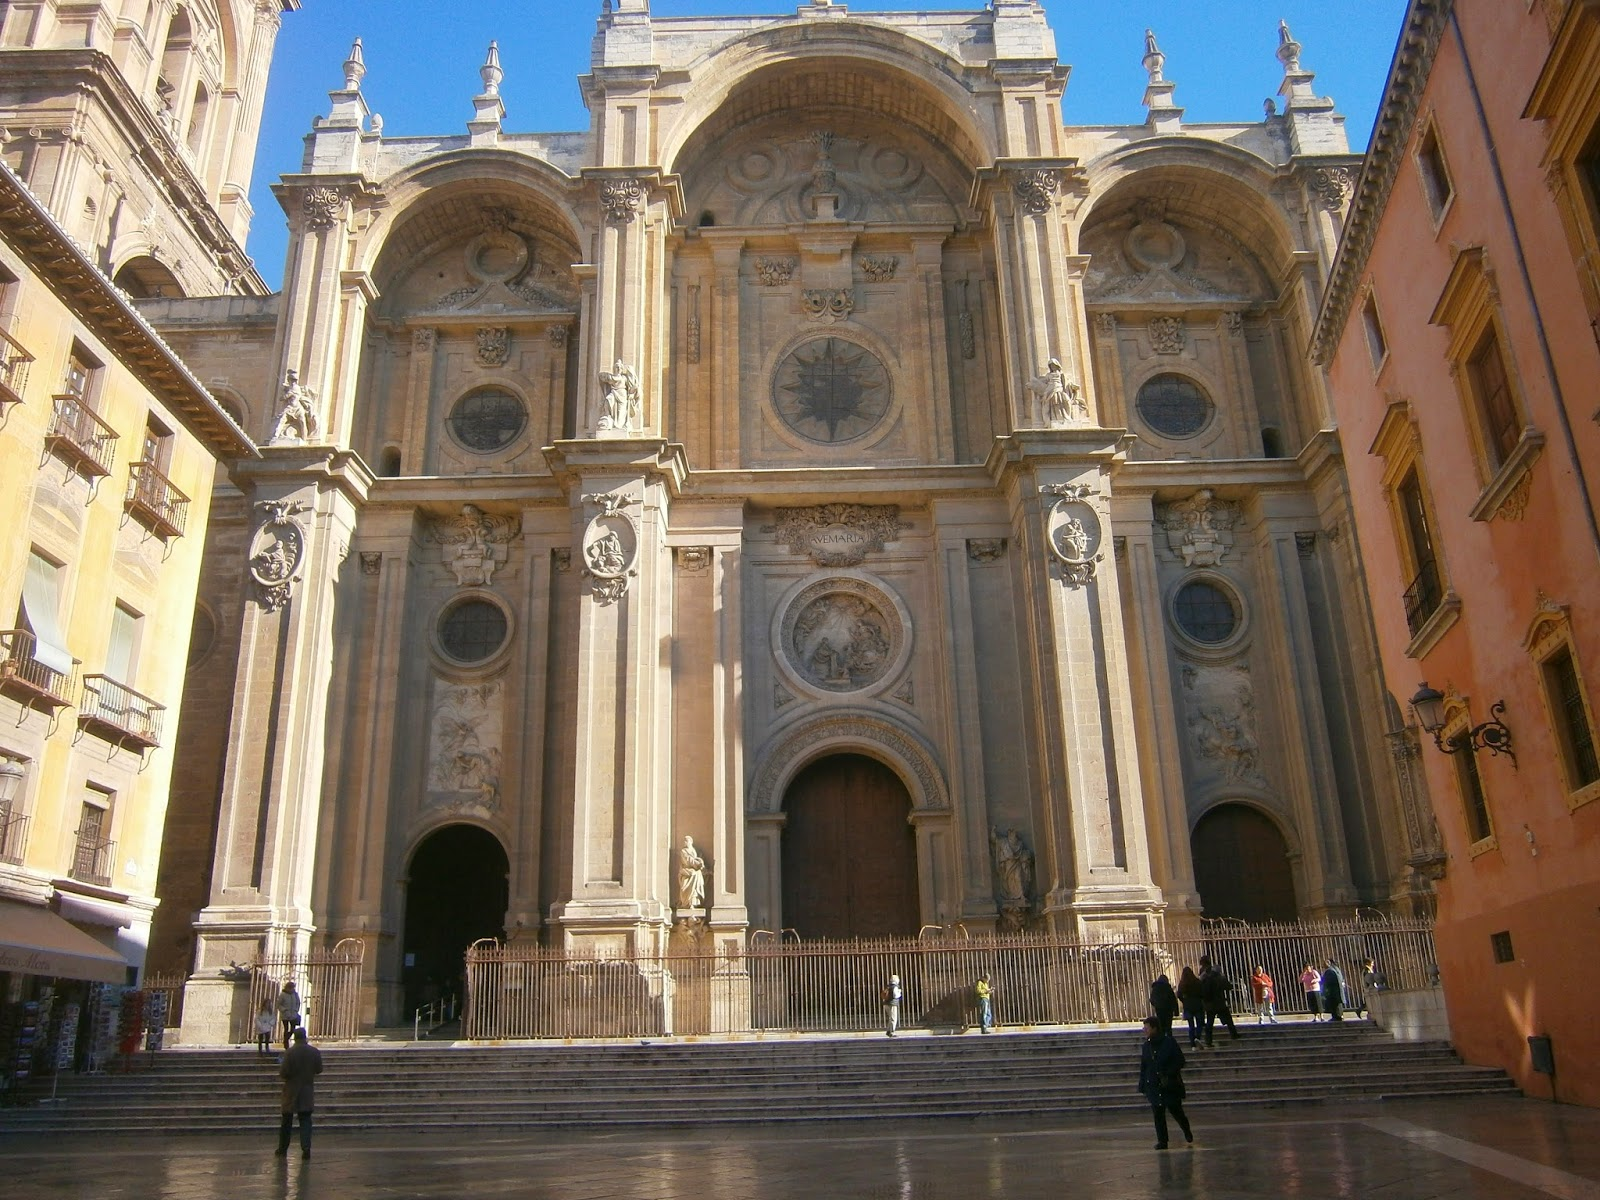arco-medio-punto: (649, 35, 1012, 214), (353, 163, 595, 297), (1073, 163, 1311, 282), (774, 737, 934, 843), (1186, 795, 1301, 868), (401, 818, 518, 886)
ojo-de-buey: (430, 589, 515, 666), (1128, 366, 1218, 437), (1168, 571, 1249, 649), (446, 378, 530, 450)
